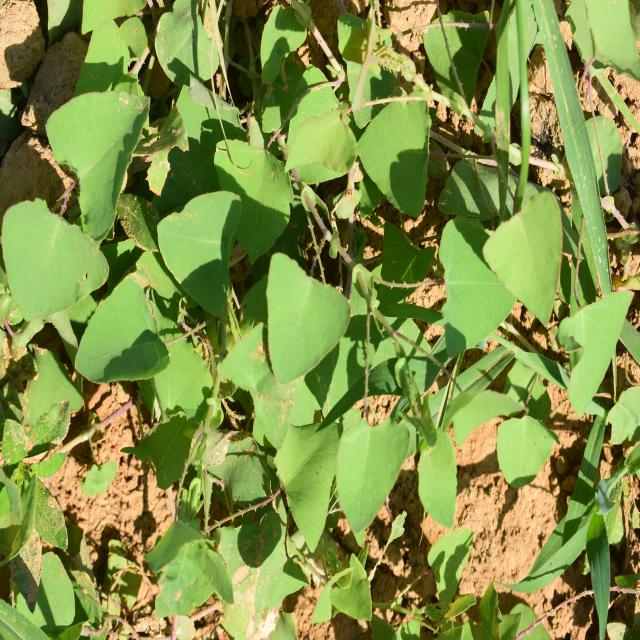Asiatic_Smartweed: (49, 163, 265, 418), (253, 200, 513, 387), (0, 79, 161, 322), (228, 51, 442, 225), (245, 377, 475, 534), (489, 179, 617, 414)
